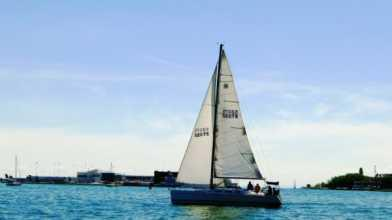fanchuan: (165, 41, 280, 207)
